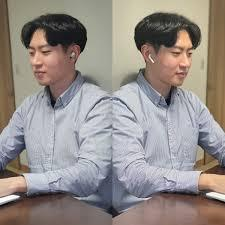earphone: (68, 48, 77, 62), (148, 51, 155, 66)
